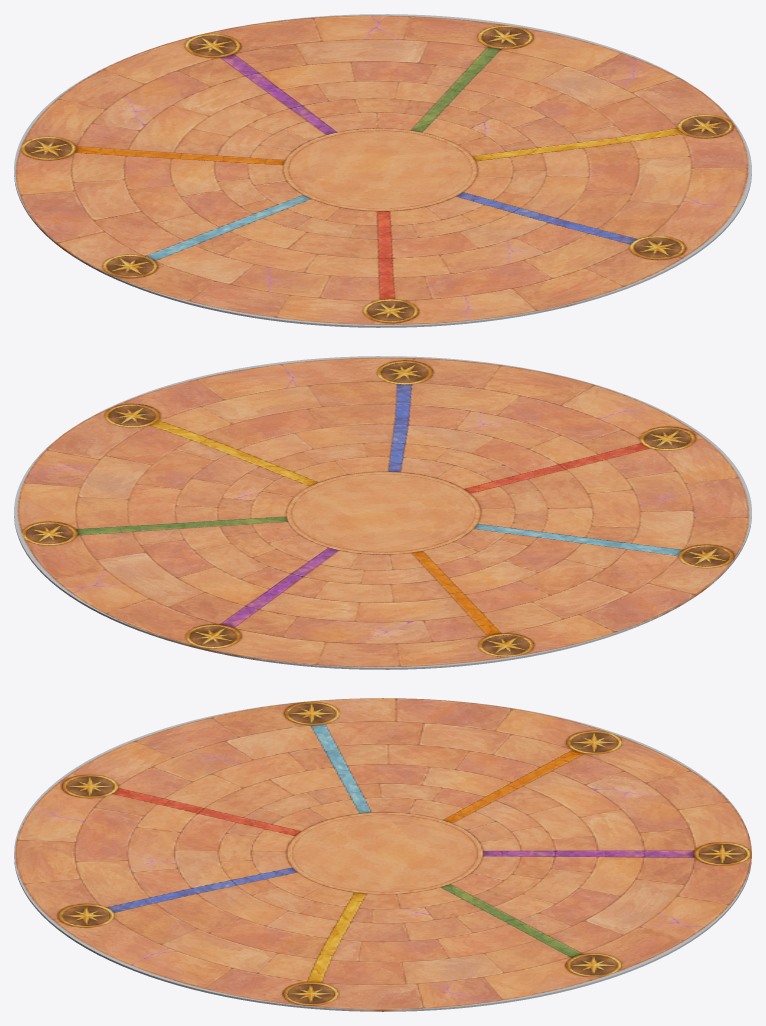
Rendered from plaza-disc.glb.
3 views of the same model, one above another, from view 1: azimuth 30°, elevation 25°; view 2: azimuth 150°, elevation 25°; view 3: azimuth 270°, elevation 25° (orthographic).
Visible parts, largest first — view 1: setpiece.plaza-disc; view 2: setpiece.plaza-disc; view 3: setpiece.plaza-disc.
Boxes of the visible parts, box(x1,y1,x2,y2) form: setpiece.plaza-disc: box(14, 14, 751, 327); setpiece.plaza-disc: box(14, 356, 751, 669); setpiece.plaza-disc: box(14, 698, 751, 1011).
Size of the model in its own units: 31 by 0.0833 by 31.
Materials: 1 (1 with a texture image).
